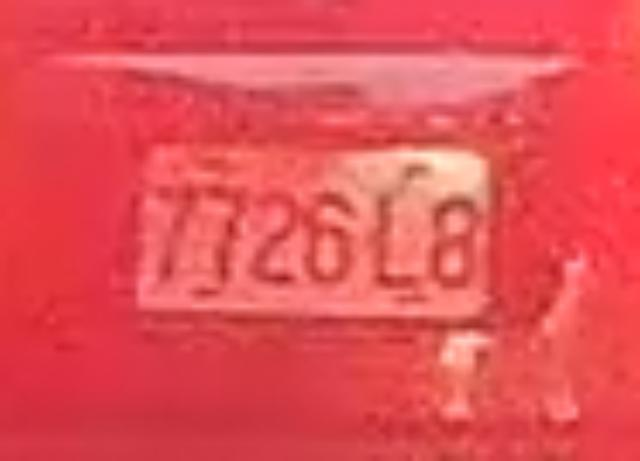plate: (125, 138, 502, 328)
